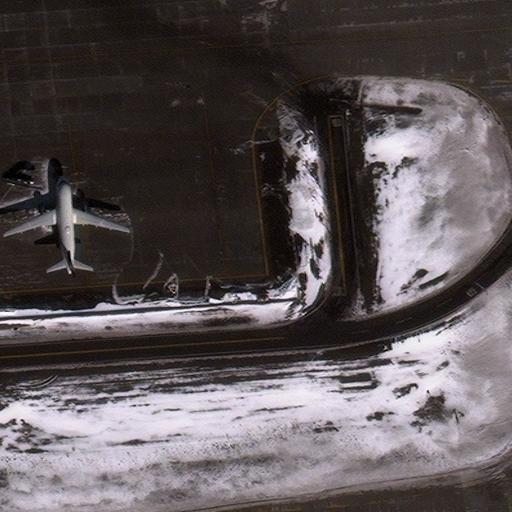Medium Civil Transport: (6, 176, 125, 273)
